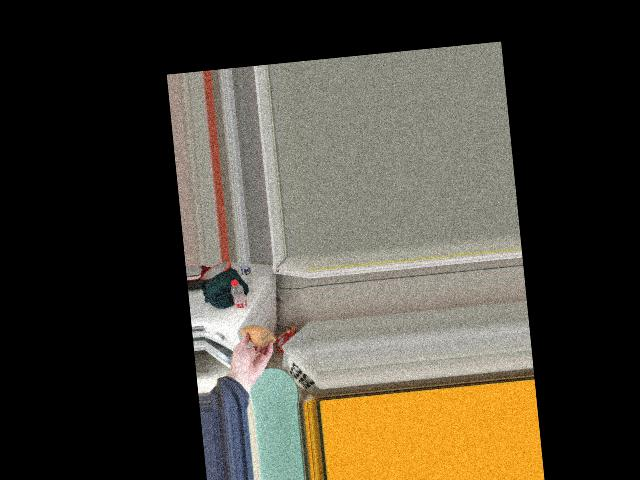sweet_potato: (242, 323, 273, 351)
